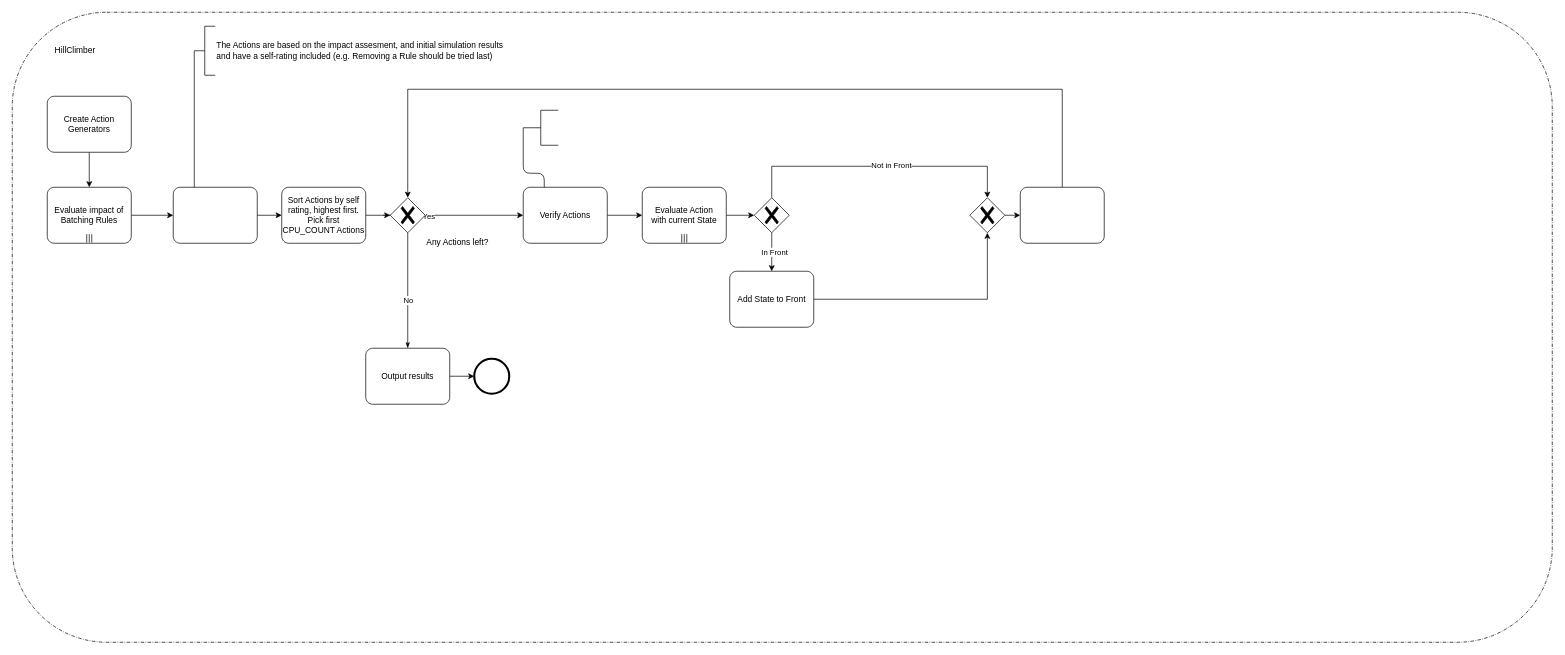
This 1565x655 diagram has some shape labels left out. The shapes that lost their labels are listed below. From the top down, each one's centre as x and y in pixels, then its label:
At [540,127]: "Includes check whether the Action was allready tried (Tabu)".
At [215,215]: "Generate min. CPU_COUNT Actions".
At [771,215]: "Check Evaluation with Front".
At [1062,215]: "Add Action to Tabu list".
